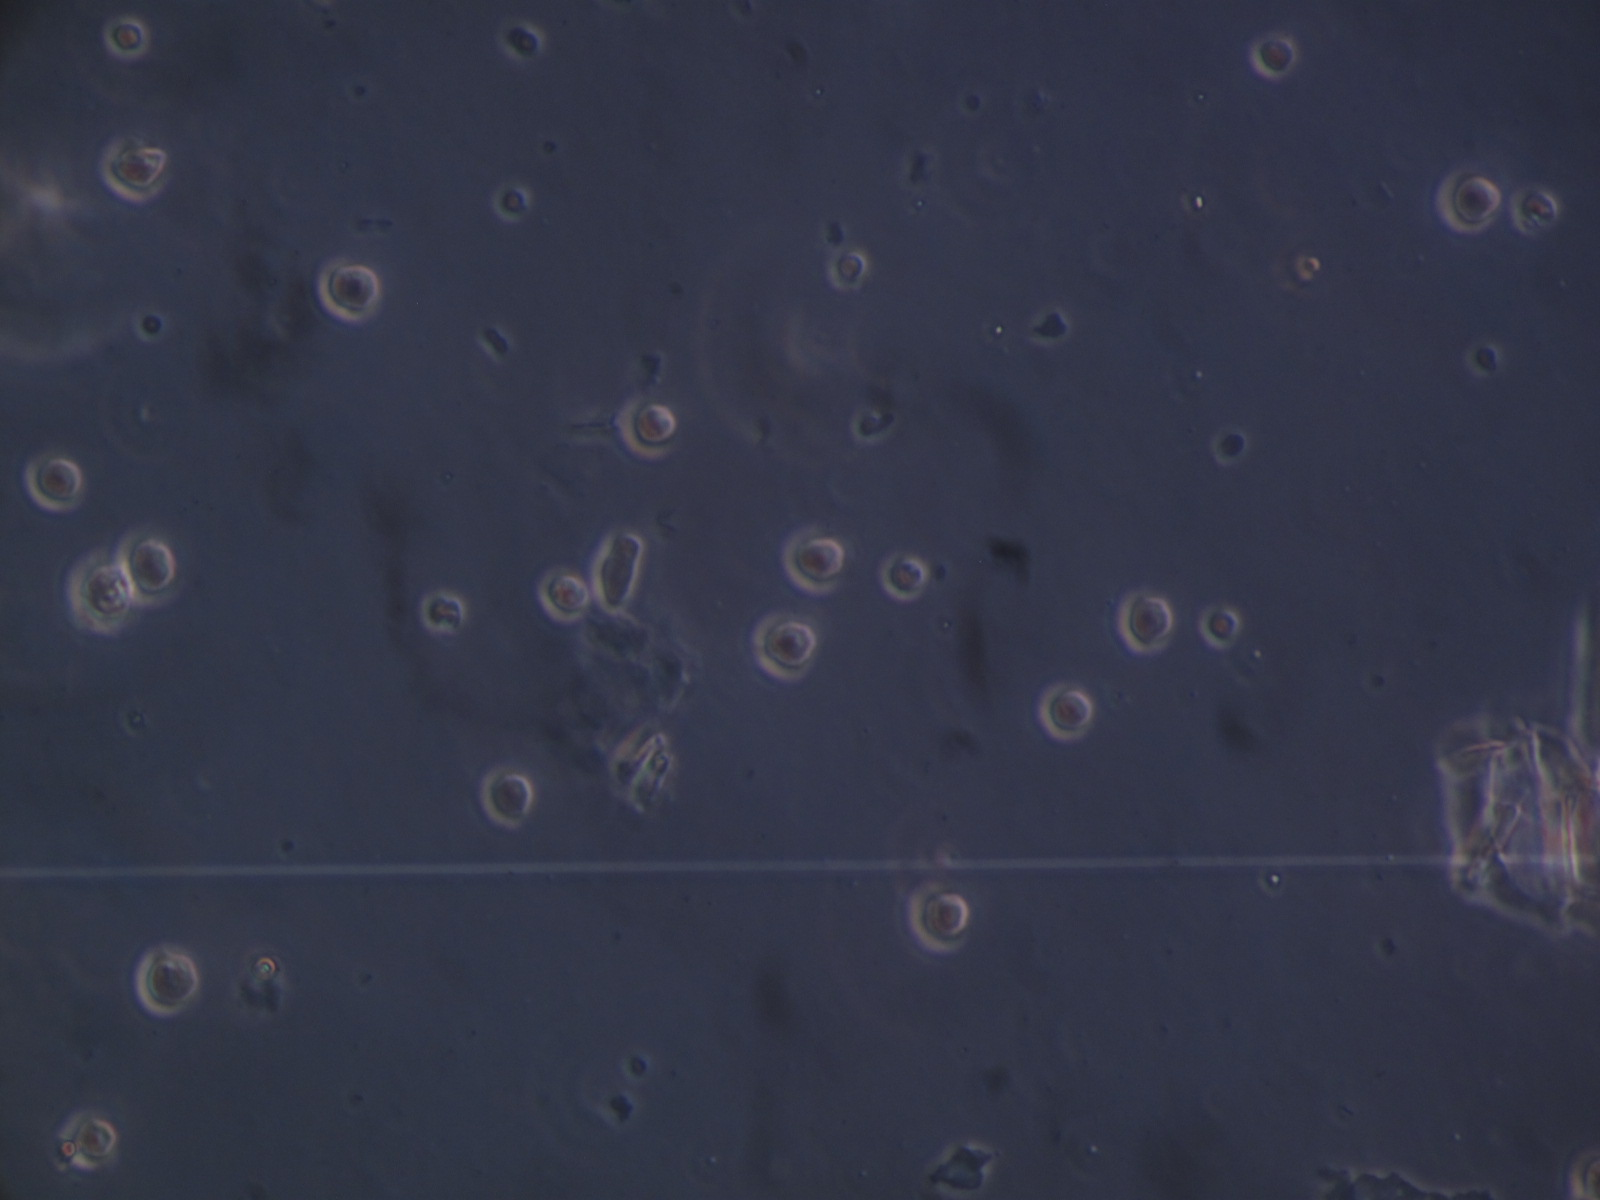hemo: (67, 550, 136, 633), (118, 526, 184, 606), (752, 609, 819, 682), (134, 944, 199, 1018), (314, 256, 384, 324), (101, 136, 173, 200), (1435, 166, 1500, 233), (615, 396, 679, 464), (910, 881, 969, 954), (26, 450, 88, 517), (782, 528, 845, 592), (479, 765, 535, 828), (1117, 591, 1173, 655), (1036, 684, 1094, 741), (535, 568, 592, 625), (59, 1114, 116, 1171), (879, 552, 929, 603), (1249, 32, 1299, 79), (421, 589, 467, 634), (1199, 604, 1241, 649), (1513, 188, 1558, 229), (103, 16, 149, 57), (828, 250, 868, 292), (493, 182, 533, 223)
